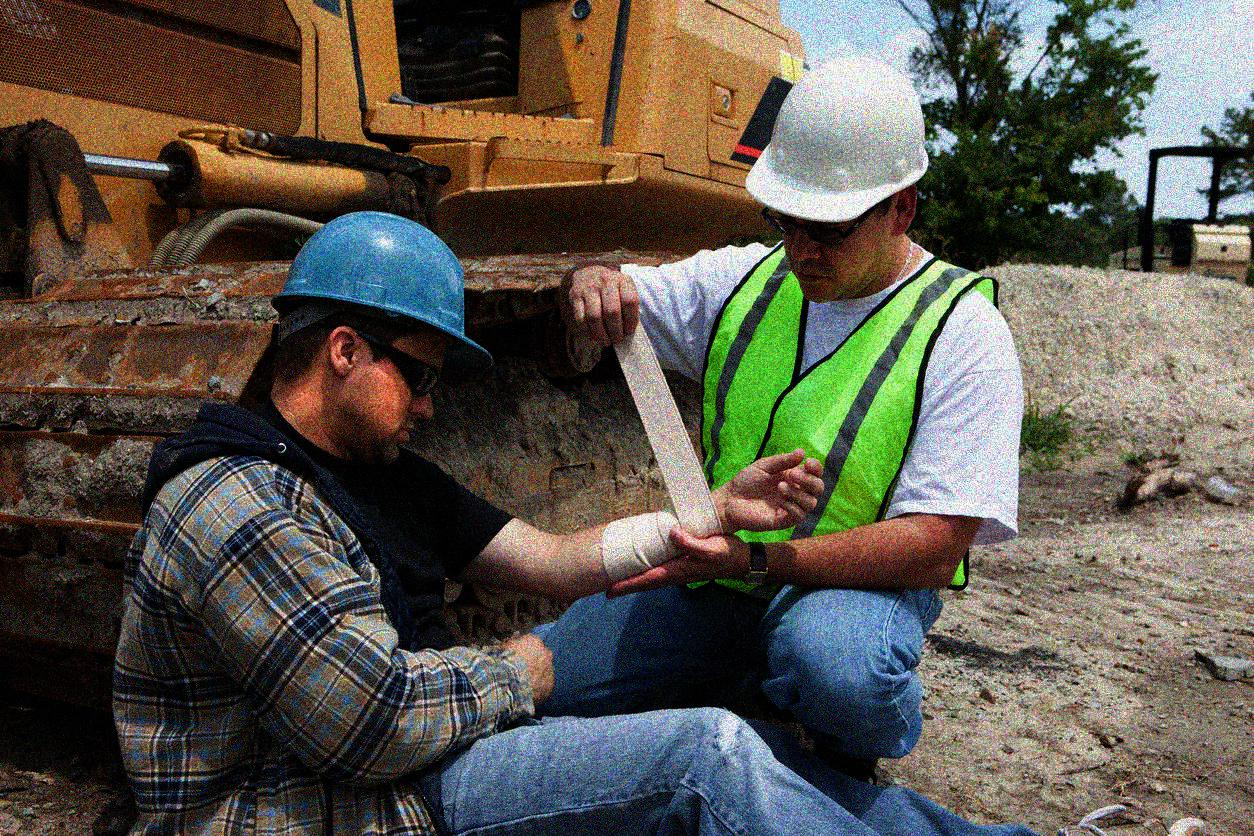helmet: (269, 207, 494, 456), (741, 51, 942, 306)
